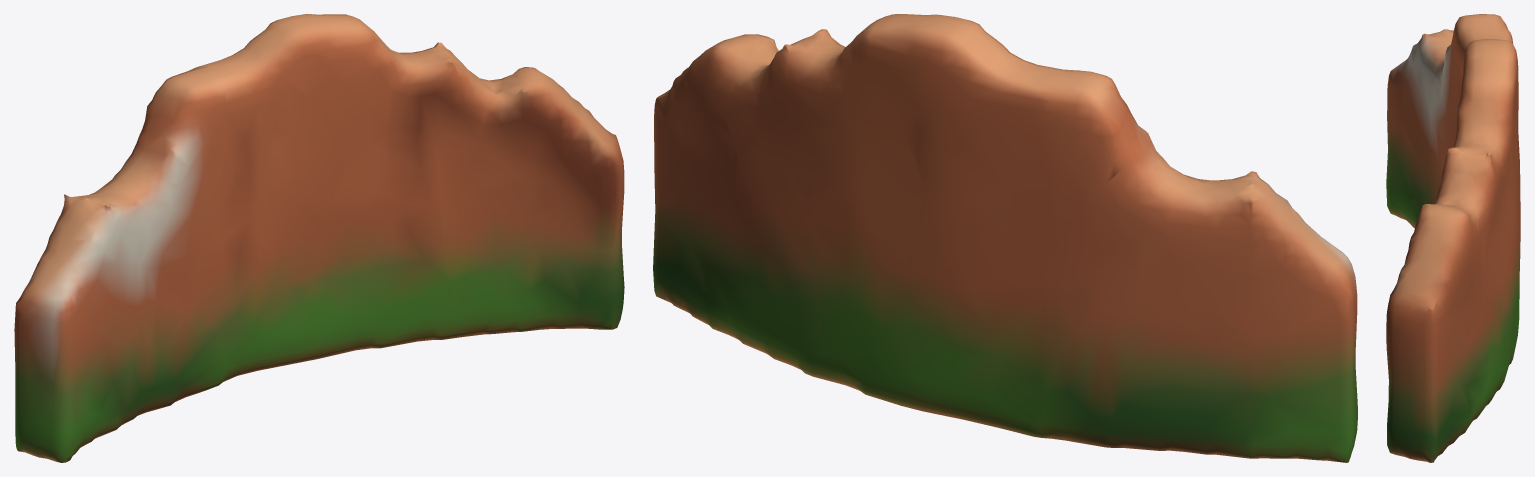
Rendered from canopy_pot_shard.glb.
The picture shows the model from 3 angles, left to right: view 1: azimuth 30°, elevation 25°; view 2: azimuth 150°, elevation 25°; view 3: azimuth 270°, elevation 25°; orthographic projection. The views are drawn at different scales.
Parts seen in each view (by area): view 1: canopy_pot_shard; view 2: canopy_pot_shard; view 3: canopy_pot_shard.
Boxes of the visible parts, box(x1,y1,x2,y2) form: canopy_pot_shard: box(14, 14, 624, 462); canopy_pot_shard: box(653, 14, 1357, 462); canopy_pot_shard: box(1386, 14, 1520, 462).
Bounding box in the file's own units: 6.49 × 3.41 × 1.4.
